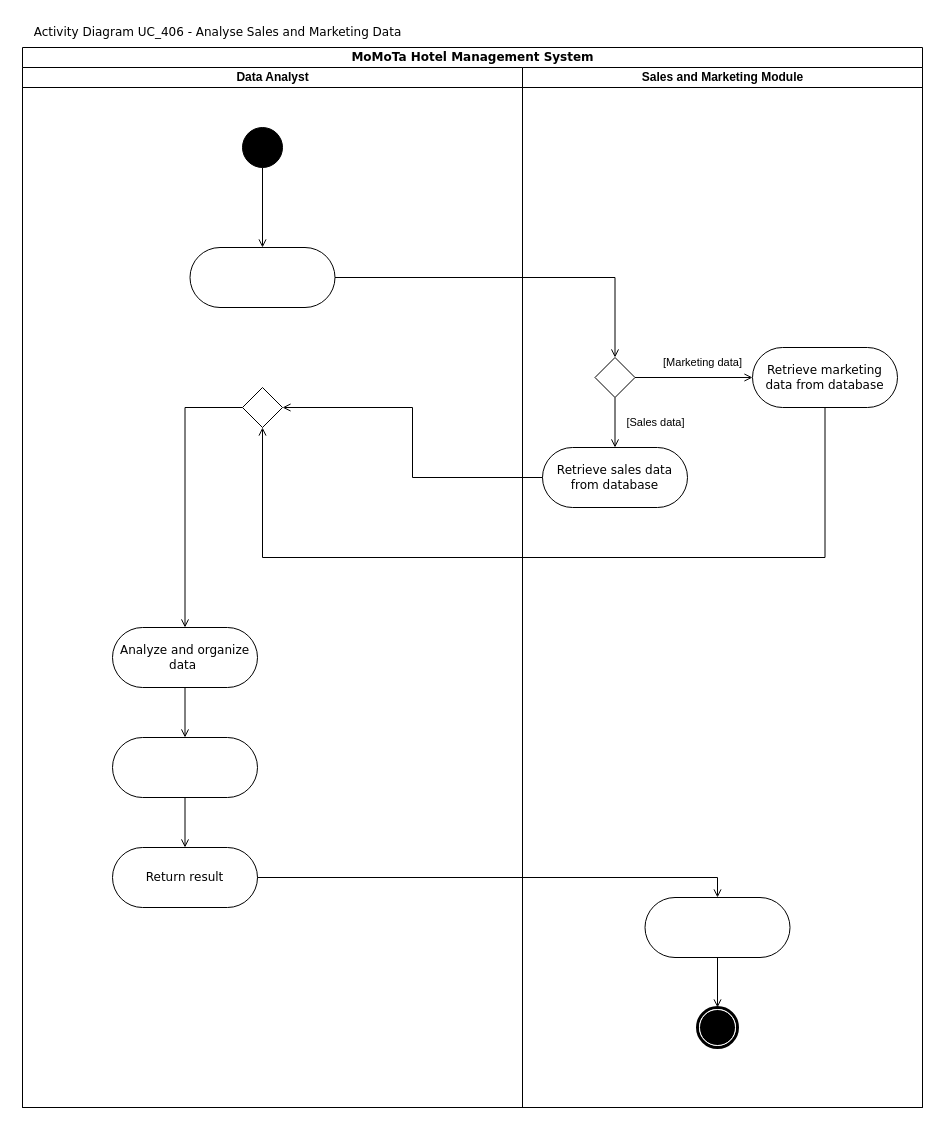
This 940x1125 diagram has some shape labels left out. Here are the shapes that lost their labels. From the top down, the box of each, then its label:
(189, 246, 335, 308): Request data
(112, 736, 258, 798): Make conclusion
(644, 896, 790, 958): Store result into database
